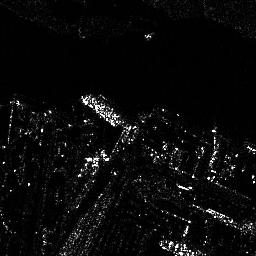ship: (79, 93, 123, 125)
